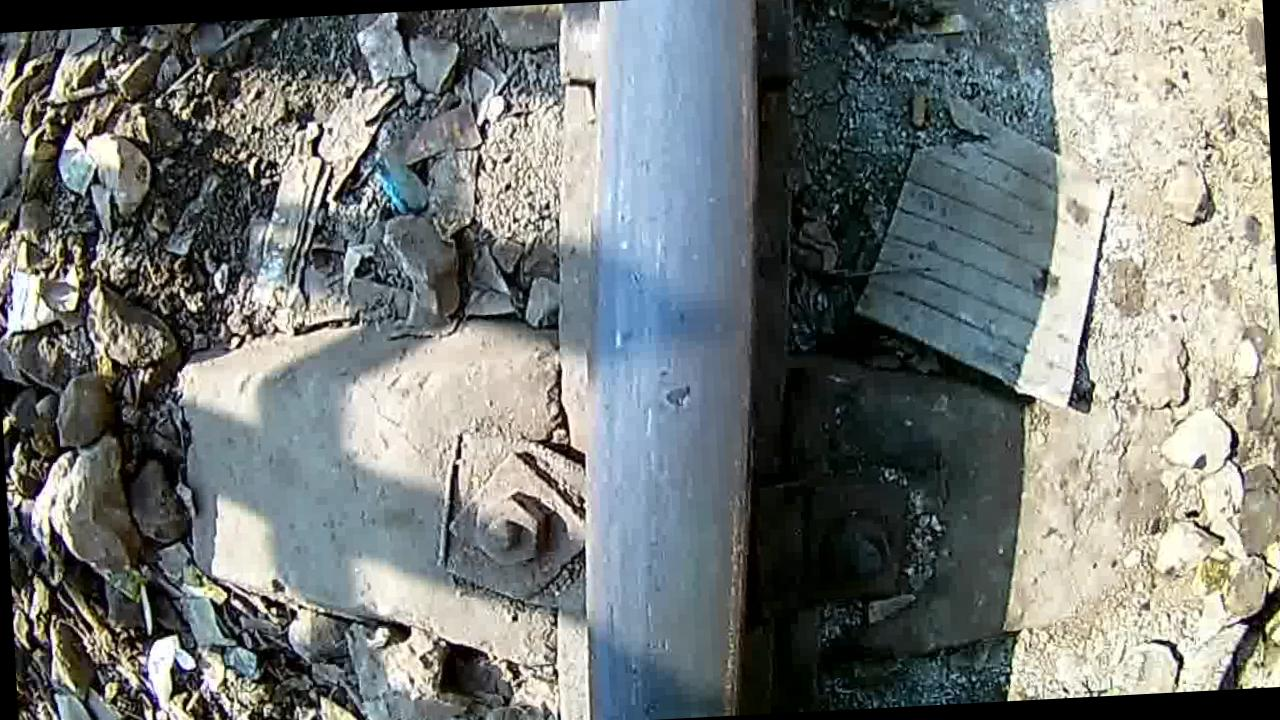crack: (604, 276, 746, 548)
